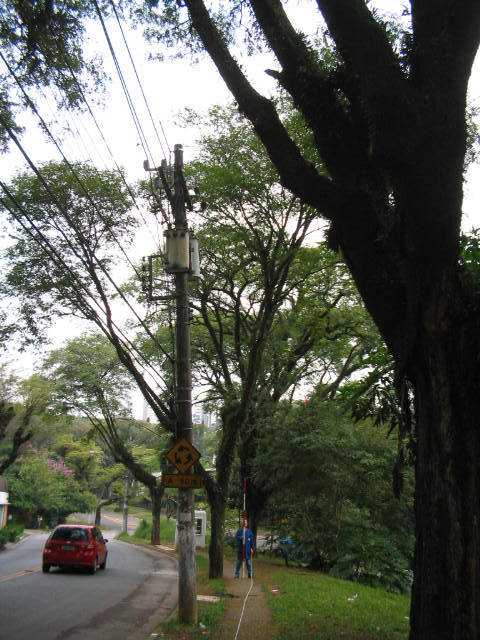stem: (199, 492, 237, 579)
stick: (238, 478, 253, 577)
tree: (3, 110, 317, 579)
